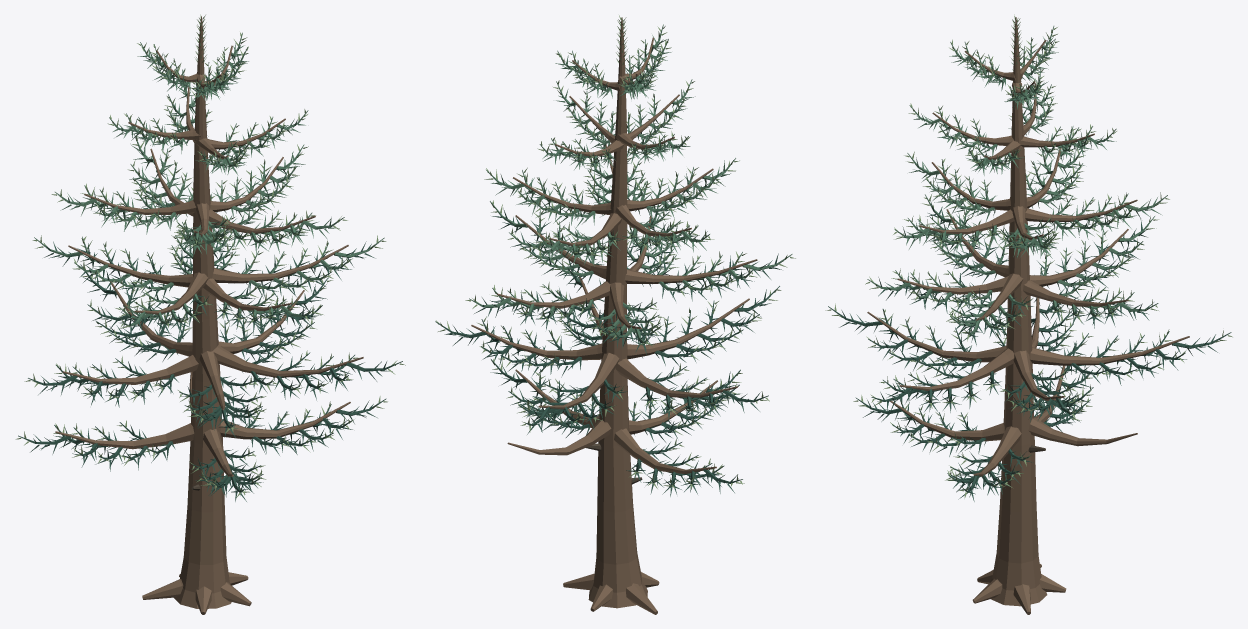
File: conifer-tree.glb
3 renders of one model, left to right at view 1: azimuth 30°, elevation 25°; view 2: azimuth 150°, elevation 25°; view 3: azimuth 270°, elevation 25°, orthographic.
Visible parts, largest first — view 1: Conifer | curved boughs and rounded collars, Conifer | tapered branchlet axes, Conifer | continuous taper and root flare, Conifer | foliage tier 02, Conifer | foliage tier 03, Conifer | foliage tier 04, Conifer | foliage tier 01, Conifer | foliage tier 05, Conifer | foliage tier 06; view 2: Conifer | curved boughs and rounded collars, Conifer | tapered branchlet axes, Conifer | continuous taper and root flare, Conifer | foliage tier 02, Conifer | foliage tier 04, Conifer | foliage tier 03, Conifer | foliage tier 01, Conifer | foliage tier 05, Conifer | foliage tier 06; view 3: Conifer | curved boughs and rounded collars, Conifer | tapered branchlet axes, Conifer | continuous taper and root flare, Conifer | foliage tier 03, Conifer | foliage tier 04, Conifer | foliage tier 02, Conifer | foliage tier 01, Conifer | foliage tier 05, Conifer | foliage tier 06.
Part boxes in pixels (x1,y1,x2,y2): Conifer | curved boughs and rounded collars: (55, 45, 363, 490); Conifer | tapered branchlet axes: (18, 32, 402, 492); Conifer | continuous taper and root flare: (142, 16, 251, 614); Conifer | foliage tier 02: (24, 266, 405, 437); Conifer | foliage tier 03: (32, 195, 386, 337); Conifer | foliage tier 04: (51, 136, 347, 256); Conifer | foliage tier 01: (15, 396, 387, 501); Conifer | foliage tier 05: (107, 69, 307, 175); Conifer | foliage tier 06: (137, 32, 248, 100); Conifer | curved boughs and rounded collars: (471, 37, 757, 484); Conifer | tapered branchlet axes: (435, 24, 792, 486); Conifer | continuous taper and root flare: (563, 17, 659, 614); Conifer | foliage tier 02: (436, 257, 781, 434); Conifer | foliage tier 04: (484, 135, 739, 266); Conifer | foliage tier 03: (465, 200, 795, 354); Conifer | foliage tier 01: (490, 358, 744, 496); Conifer | foliage tier 05: (537, 80, 695, 173); Conifer | foliage tier 06: (555, 26, 671, 99); Conifer | curved boughs and rounded collars: (867, 39, 1189, 476); Conifer | tapered branchlet axes: (828, 26, 1231, 492); Conifer | continuous taper and root flare: (972, 17, 1066, 614); Conifer | foliage tier 03: (865, 194, 1159, 345); Conifer | foliage tier 04: (893, 126, 1169, 258); Conifer | foliage tier 02: (825, 267, 1232, 422); Conifer | foliage tier 01: (853, 344, 1095, 501); Conifer | foliage tier 05: (908, 69, 1116, 175); Conifer | foliage tier 06: (949, 27, 1059, 109).
Bounding box in the file's own units: 4.09 × 7.07 × 4.54.
